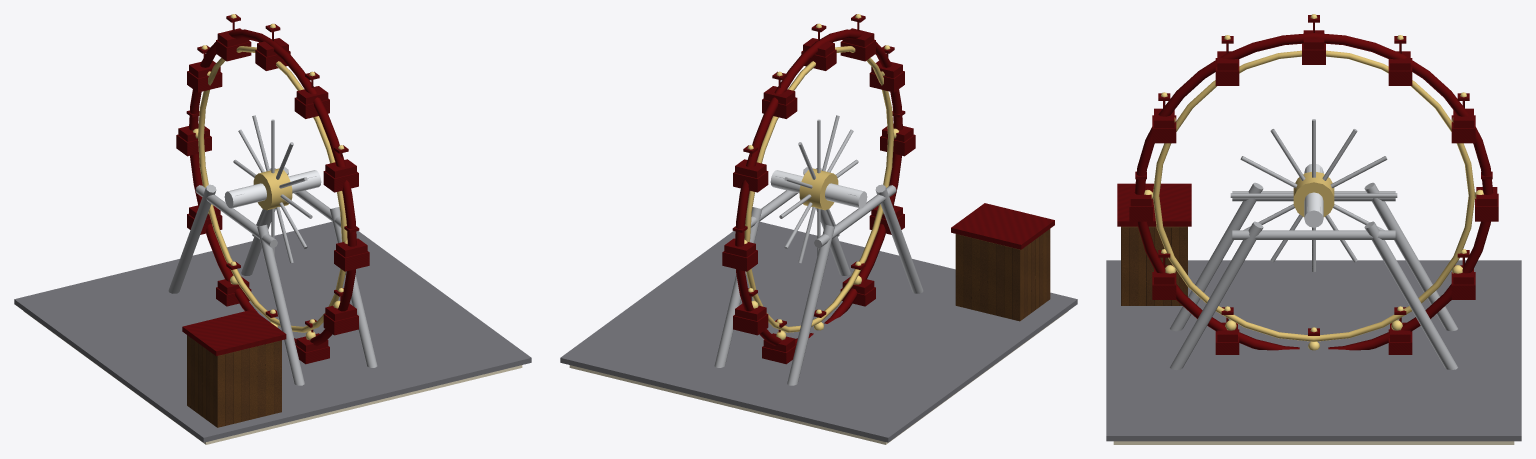
The model's file is ride_ferris.glb.
The picture shows the model from 3 angles, left to right: view 1: azimuth 30°, elevation 25°; view 2: azimuth 150°, elevation 25°; view 3: azimuth 270°, elevation 25°; orthographic projection. The views are drawn at different scales.
Visible parts, largest first — view 1: base, wheel_mesh, gondola_02, gondola_03, gondola_04, gondola_01, gondola_11, gondola_10, gondola_00, gondola_09, gondola_05, gondola_07; view 2: base, wheel_mesh, gondola_10, gondola_09, gondola_08, gondola_11, gondola_01, gondola_02, gondola_00, gondola_03, gondola_07, gondola_05; view 3: base, wheel_mesh, gondola_02, gondola_10, gondola_01, gondola_11, gondola_00, gondola_04, gondola_08, gondola_03, gondola_09, gondola_05 (+1 smaller).
Boxes of the visible parts, box(x1,y1,x2,y2) form: base: box(14, 167, 531, 444); wheel_mesh: box(189, 29, 356, 345); gondola_02: box(323, 145, 358, 192); gondola_03: box(334, 226, 369, 271); gondola_04: box(323, 288, 358, 335); gondola_01: box(294, 71, 329, 118); gondola_11: box(216, 14, 251, 61); gondola_10: box(187, 45, 222, 92); gondola_00: box(255, 23, 290, 70); gondola_09: box(176, 110, 211, 156); gondola_05: box(295, 319, 329, 364); gondola_07: box(216, 261, 251, 306); base: box(560, 167, 1077, 444); wheel_mesh: box(735, 29, 902, 345); gondola_10: box(733, 145, 768, 192); gondola_09: box(722, 226, 757, 271); gondola_08: box(733, 288, 768, 335); gondola_11: box(762, 71, 797, 118); gondola_01: box(840, 14, 875, 61); gondola_02: box(869, 45, 904, 92); gondola_00: box(801, 23, 836, 70); gondola_03: box(880, 110, 915, 156); gondola_07: box(762, 319, 796, 364); gondola_05: box(840, 261, 875, 306); base: box(1106, 164, 1521, 444); wheel_mesh: box(1134, 33, 1493, 350); gondola_02: box(1152, 92, 1176, 143); gondola_10: box(1451, 92, 1475, 143); gondola_01: box(1215, 35, 1239, 85); gondola_11: box(1388, 35, 1412, 85); gondola_00: box(1302, 14, 1325, 64); gondola_04: box(1152, 249, 1176, 299); gondola_08: box(1451, 249, 1475, 299); gondola_03: box(1129, 171, 1152, 221); gondola_09: box(1475, 171, 1498, 221); gondola_05: box(1215, 306, 1239, 354).
Bounding box in the file's own units: 5.6 × 5.32 × 5.6.
11 materials, 2 textured.
